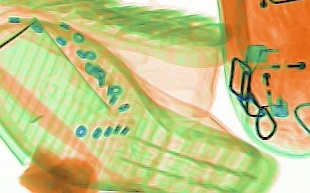lighter: (254, 44, 287, 117), (242, 41, 309, 76)
